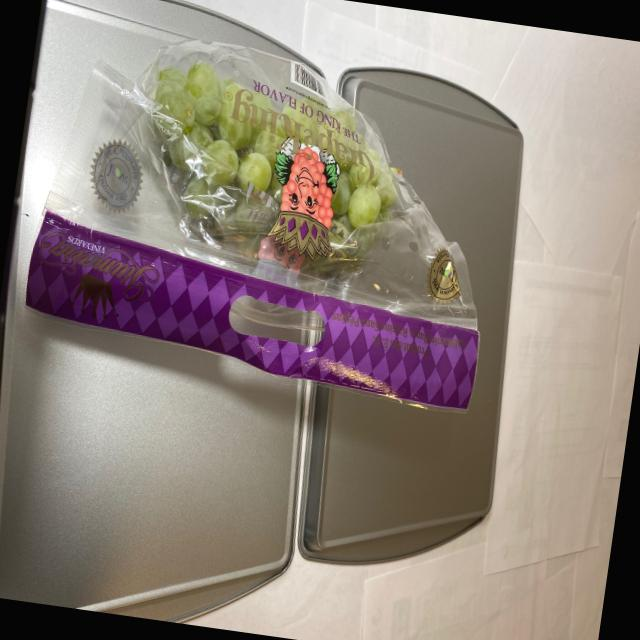grapes: (119, 52, 424, 285)
